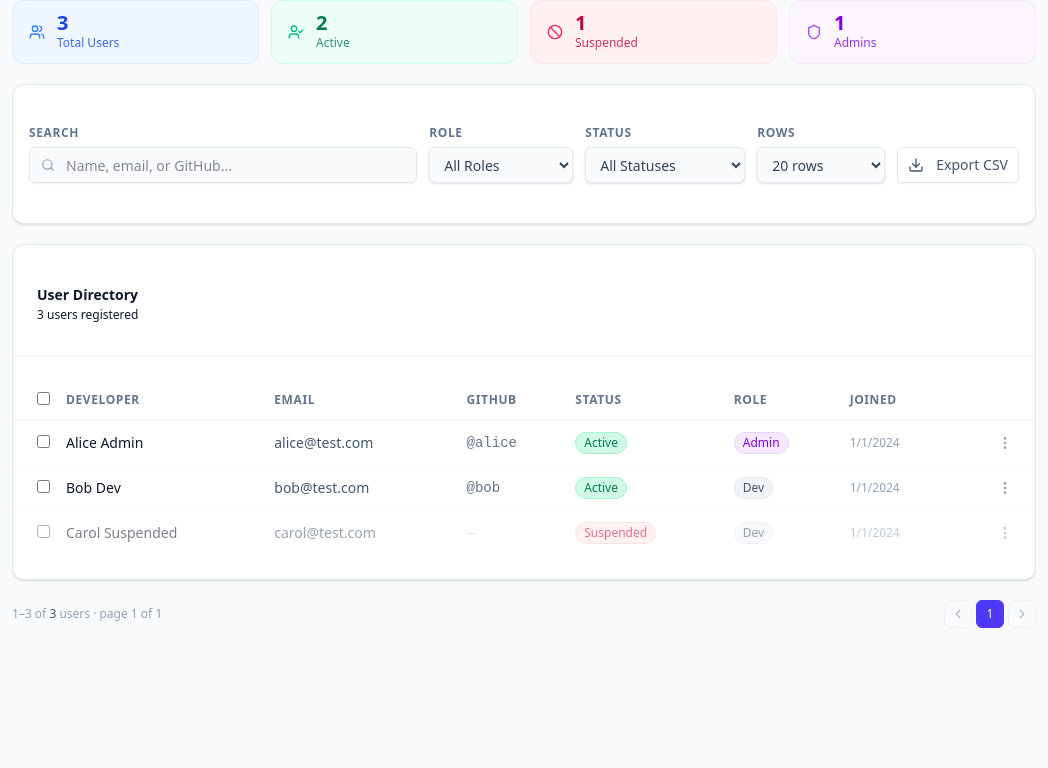
Test: UserDirectory › shows the floating bulk action bar when at least one row is selected
Expected: the text "Alice Admin" is shown, [58, 420, 266, 466]
# Click the first row checkbox
Click the checkbox named "Select Alice Admin" at (44, 442), box [37, 435, 50, 448]
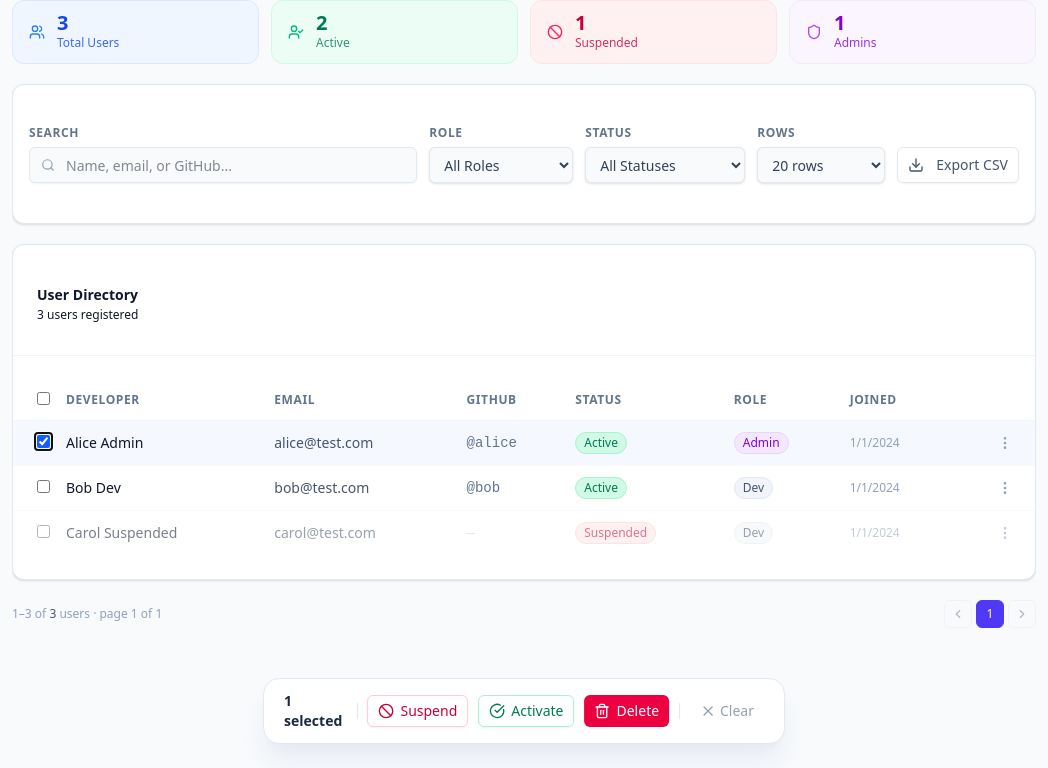
Result: the text "1 selected" is shown at [284, 691, 343, 731]
